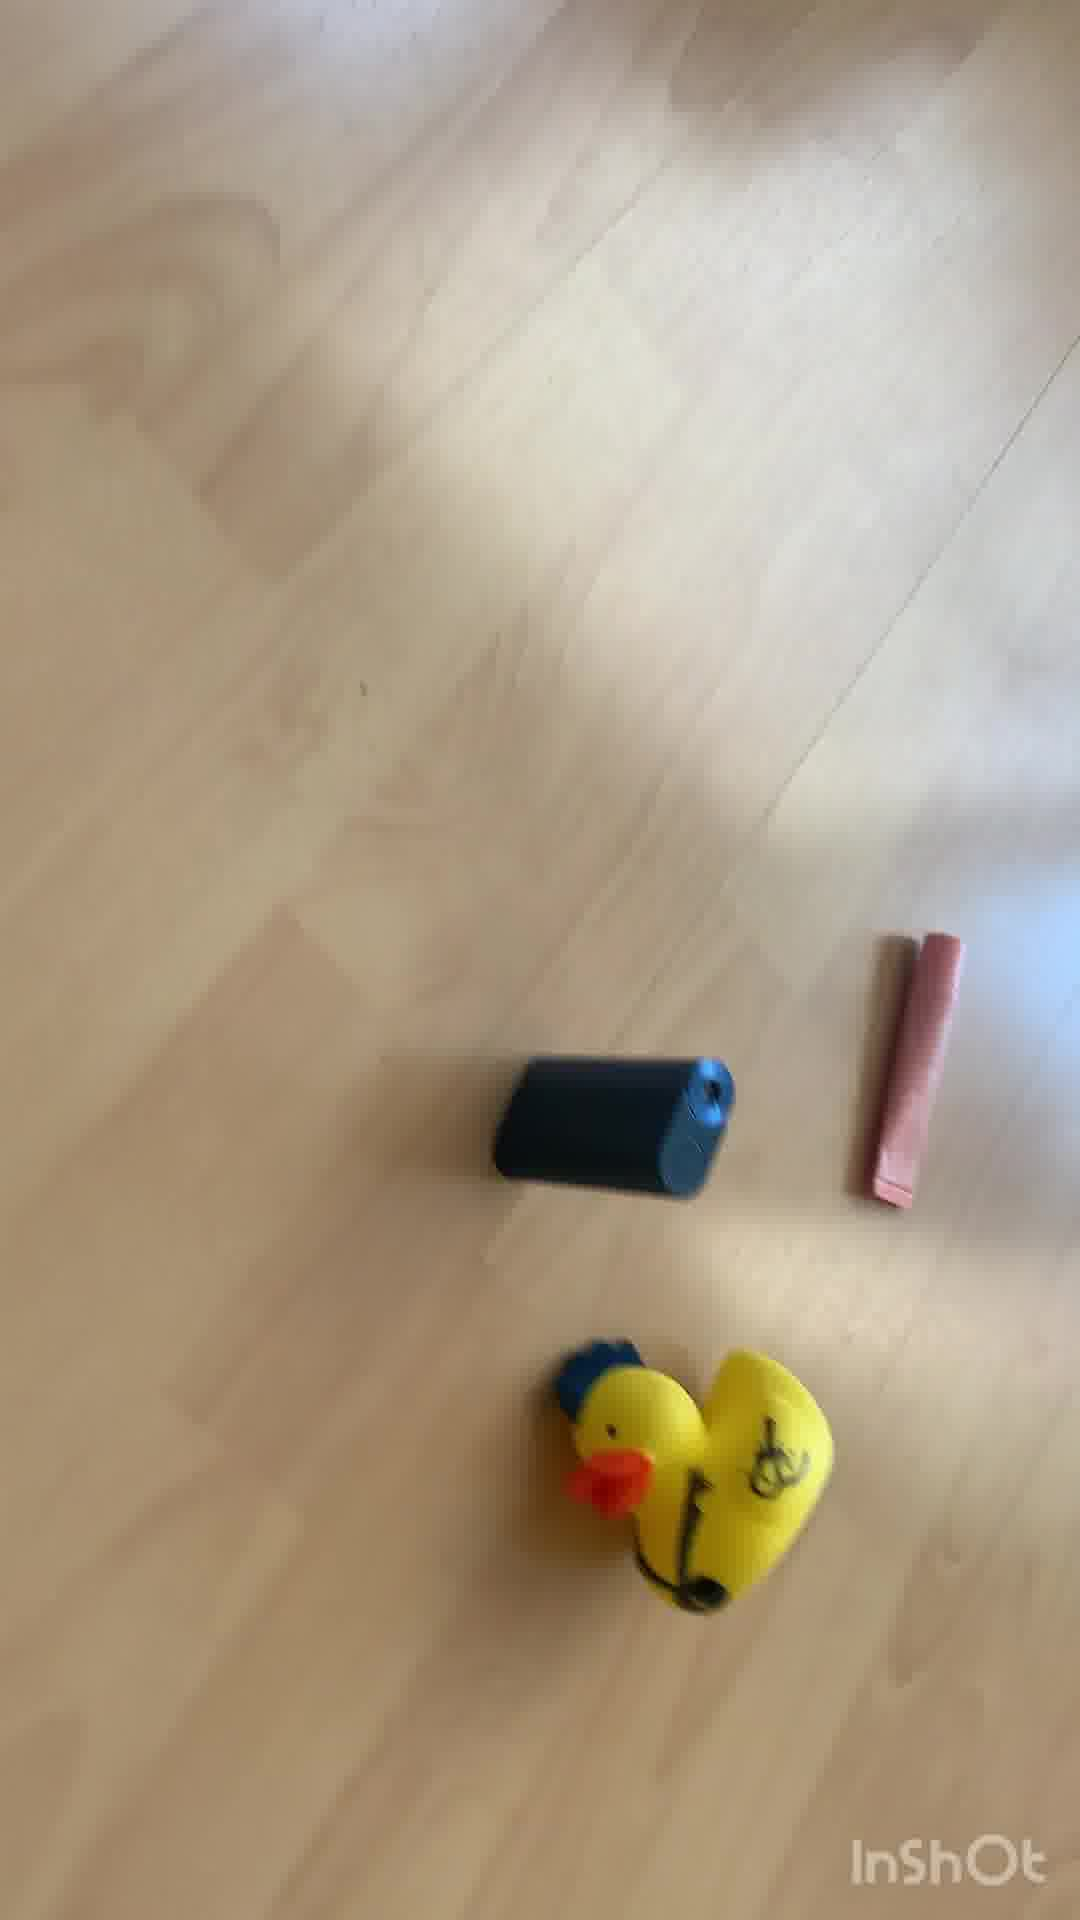duck: (554, 1317, 828, 1618)
glo: (472, 1054, 756, 1195)
lip balm: (862, 928, 972, 1213)
